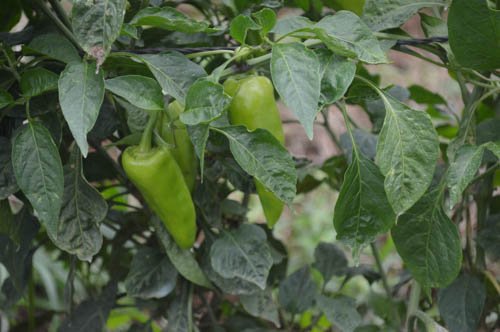ChiliPepper: (223, 77, 286, 227), (124, 149, 198, 251), (162, 102, 199, 193)
